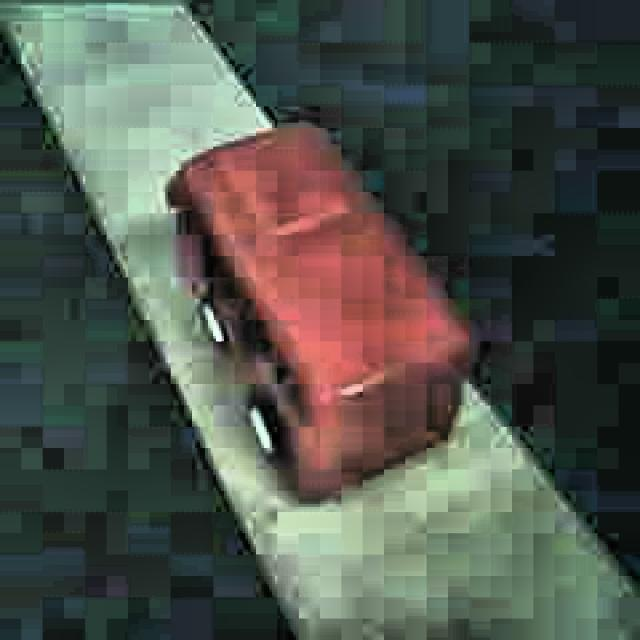bus: (162, 120, 476, 508)
